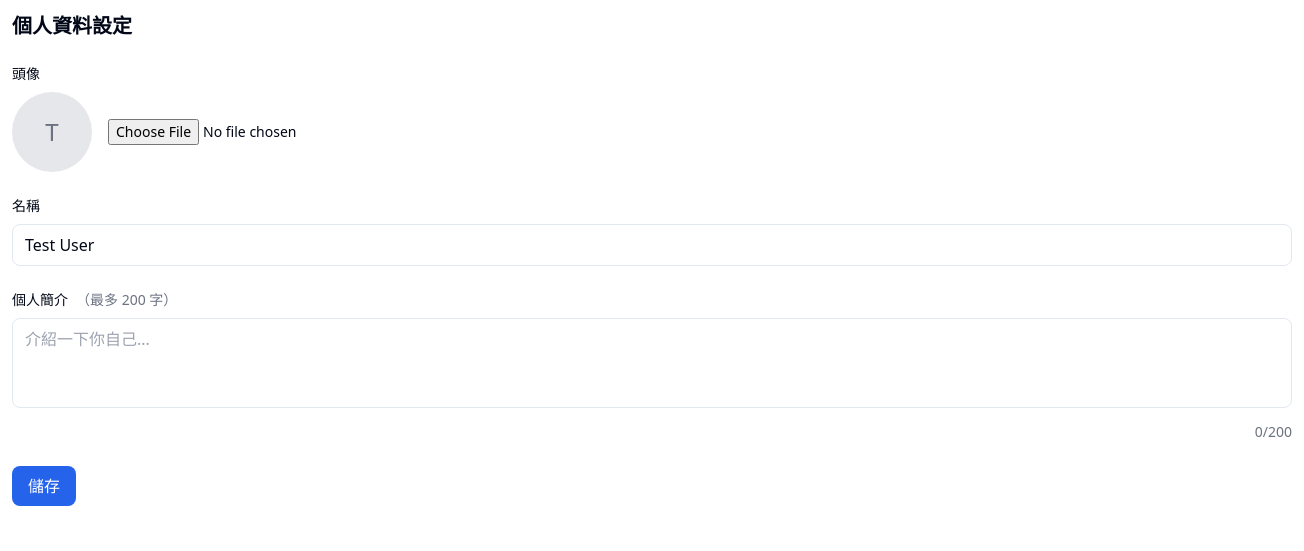
ProfileSettings › validates empty name
Clear the field labelled "名稱" at {"x": 652, "y": 245}, box [12,224,1292,266]
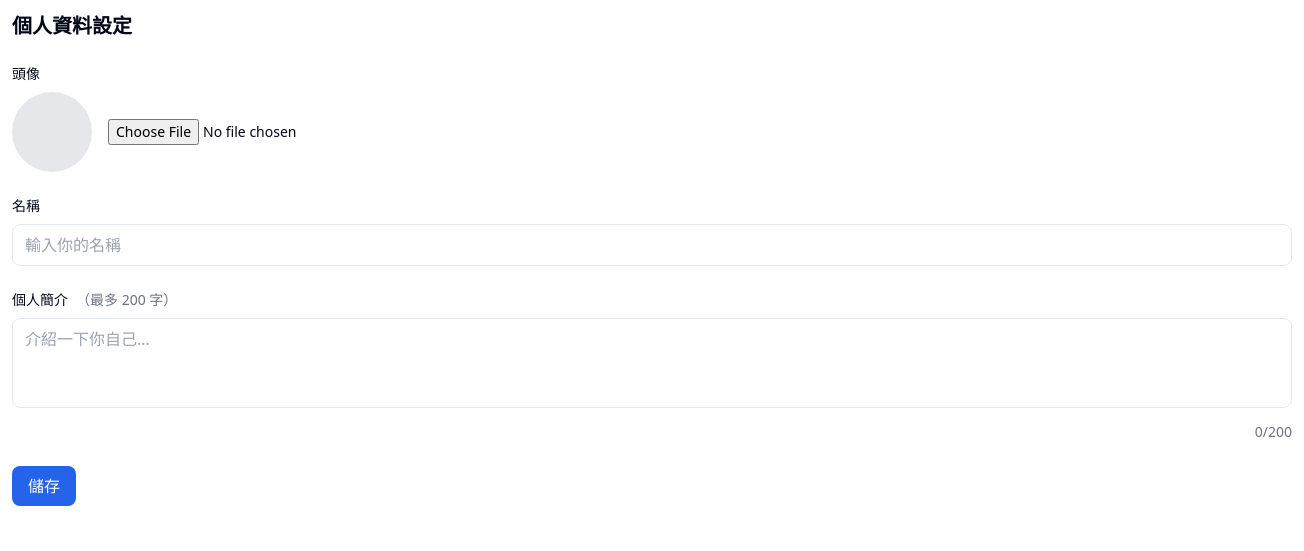
Click the button "儲存" at {"x": 44, "y": 486}, box [12,466,76,506]
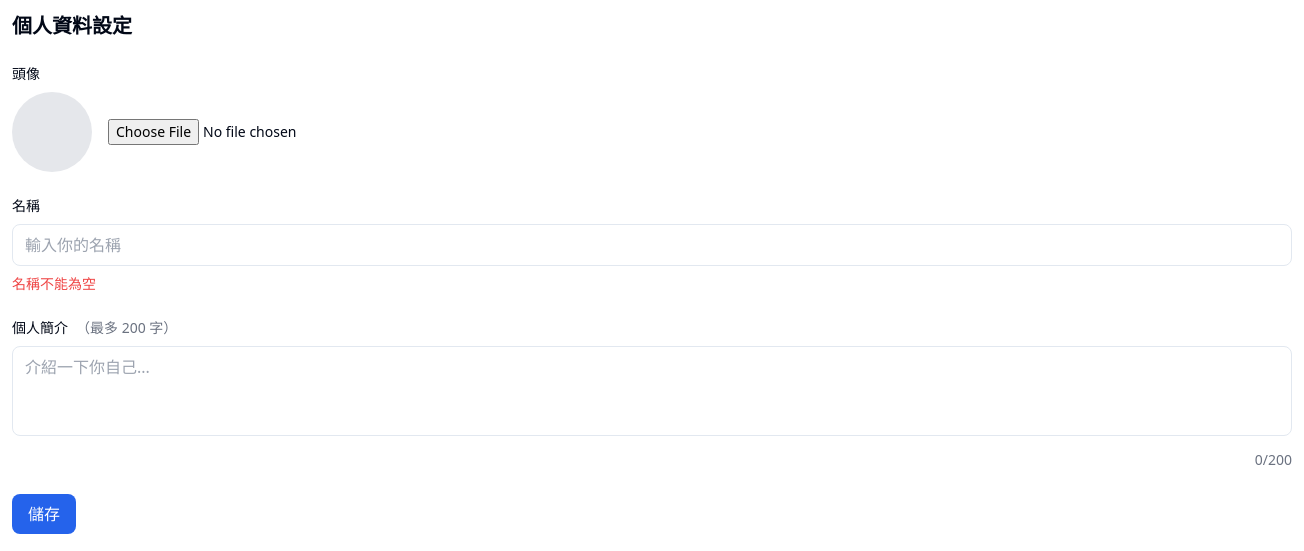
Result: the text "名稱不能為空" is shown at [12,274,96,293]
